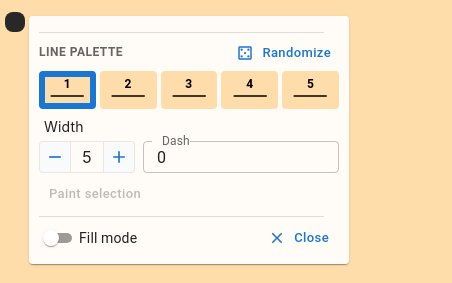
Test: Color Menu › explains how color randomization is constrained
Hover over the button "Randomize": [285, 53] box 230,39 -> 339,67
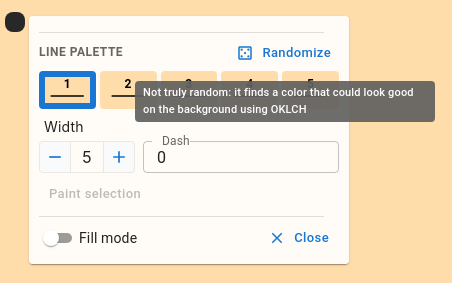
expect the text "Not truly random: it finds a color that could look good on the background using OKLCH" is shown: met, box 143,86 -> 414,116
